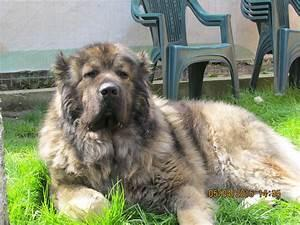dog: (37, 41, 299, 224)
